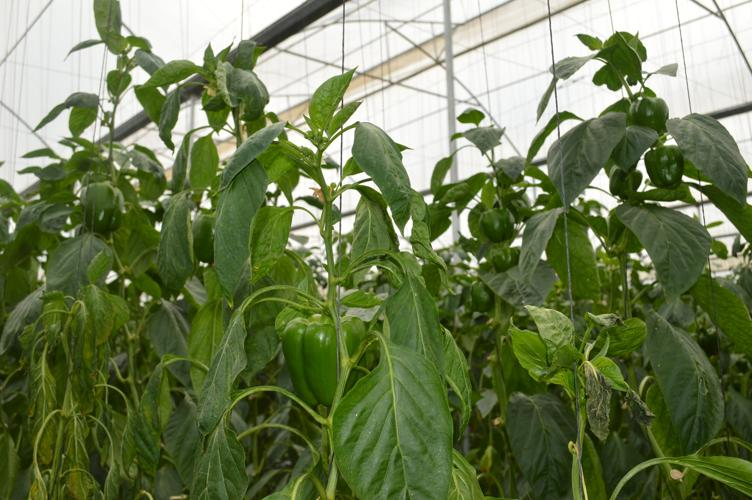BellPepper: (287, 314, 364, 395), (79, 182, 129, 231), (645, 144, 679, 185), (188, 213, 212, 264), (629, 96, 664, 126), (479, 213, 514, 238)
